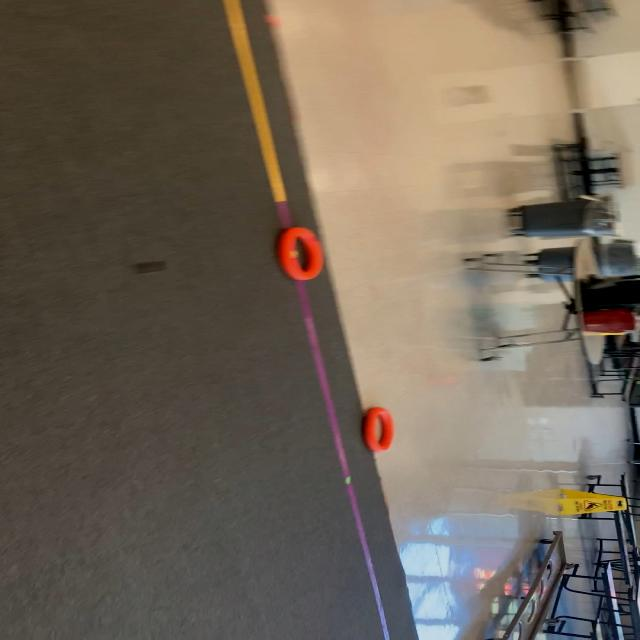notes: (278, 224, 322, 280), (364, 406, 396, 454)
